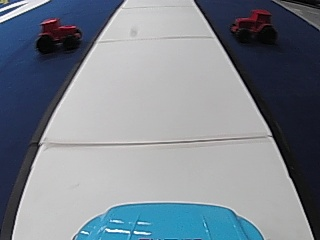tractor: (35, 15, 82, 53), (229, 7, 276, 44)
